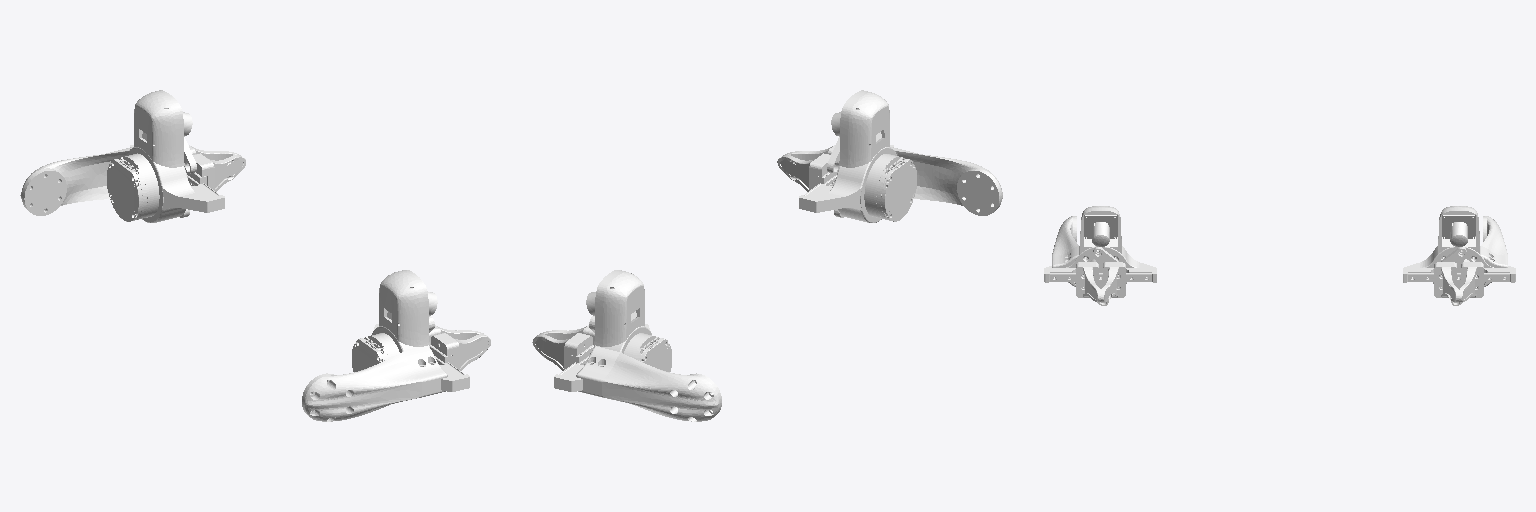
The robot description file, URDF, robot "Taks_T1":
<robot name="Taks_T1">

  <link name="pelvis">
    <inertial>
      <origin xyz="-0.000276 0.004540 -0.078485" rpy="0 0 0"/>
      <mass value="3.34"/>
      <inertia ixx="0.017602" ixy="-6.67118e-05" ixz="8.88231e-05" iyy="0.00671794" iyz="0.000112175" izz="0.0161292"/>
    </inertial>
    <visual>
      <origin xyz="0 0 0" rpy="0 0 0"/>
      <geometry>
        <mesh filename="meshes/pelvis.STL"/>
      </geometry>
      <material name="white">
        <color rgba="1.0 1.0 1.0 1.0"/>
      </material>
    </visual>
    <collision>
      <origin xyz="0 0 0" rpy="0 0 0"/>
      <geometry>
        <mesh filename="meshes/pelvis.STL"/>
      </geometry>
    </collision>
  </link>

  <!-- Left Leg -->

  <!-- Right Leg -->

  <!-- Upper Body -->
  <link name="waist_yaw_link">
    <inertial>
      <origin xyz="0.000703 0.000036 0.023511" rpy="0 0 0"/>
      <mass value="0.79"/>
      <inertia ixx="0.000424115" ixy="-7.88004e-10" ixz="-1.35964e-06" iyy="0.00139043" iyz="-3.146e-10" izz="0.00115195"/>
    </inertial>
    <visual>
      <origin xyz="0 0 0" rpy="0 0 0"/>
      <geometry>
        <mesh filename="meshes/waist_yaw_link.STL"/>
      </geometry>
      <material name="white">
        <color rgba="1.0 1.0 1.0 1.0"/>
      </material>
    </visual>
    <collision>
      <origin xyz="0 0 0" rpy="0 0 0"/>
      <geometry>
        <mesh filename="meshes/waist_yaw_link.STL"/>
      </geometry>
    </collision>
  </link>
  <joint name="waist_yaw_joint" type="revolute">
    <origin xyz="0.0 0.0 0.0" rpy="0 0 0"/>
    <parent link="pelvis"/>
    <child link="waist_yaw_link"/>
    <axis xyz="0.0 0.0 1.0"/>
    <limit lower="-2.618" upper="2.618" effort="97.0" velocity="4.19"/>
  </joint>

  <link name="waist_roll_link">
    <inertial>
      <origin xyz="-0.036458 0.001915 0.039503" rpy="0 0 0"/>
      <mass value="1.56"/>
      <inertia ixx="0.00365763" ixy="5.23222e-06" ixz="0.000103033" iyy="0.00365945" iyz="-0.000116974" izz="0.00122046"/>
    </inertial>
    <visual>
      <origin xyz="0 0 0" rpy="0 0 0"/>
      <geometry>
        <mesh filename="meshes/waist_roll_link.STL"/>
      </geometry>
      <material name="white">
        <color rgba="1.0 1.0 1.0 1.0"/>
      </material>
    </visual>
    <collision>
      <origin xyz="0 0 0" rpy="0 0 0"/>
      <geometry>
        <mesh filename="meshes/waist_roll_link.STL"/>
      </geometry>
    </collision>
  </link>
  <joint name="waist_roll_joint" type="revolute">
    <origin xyz="0.03813 3.7e-05 0.050906" rpy="0 0 0"/>
    <parent link="waist_yaw_link"/>
    <child link="waist_roll_link"/>
    <axis xyz="1.0 0.0 0.0"/>
    <limit lower="-0.52" upper="0.52" effort="97.0" velocity="4.19"/>
  </joint>

  <link name="torso_link">
    <inertial>
      <origin xyz="-0.000218 0.028412 0.216121" rpy="0 0 0"/>
      <mass value="2.01"/>
      <inertia ixx="0.0398056" ixy="2.45331e-06" ixz="3.33211e-05" iyy="0.0316306" iyz="0.000776359" izz="0.0103877"/>
    </inertial>
    <visual>
      <origin xyz="0 0 0" rpy="0 0 0"/>
      <geometry>
        <mesh filename="meshes/waist_pitch_link.STL"/>
      </geometry>
      <material name="white">
        <color rgba="1.0 1.0 1.0 1.0"/>
      </material>
    </visual>
    <collision>
      <origin xyz="0 0 0" rpy="0 0 0"/>
      <geometry>
        <mesh filename="meshes/waist_pitch_link.STL"/>
      </geometry>
    </collision>
  </link>
  <joint name="waist_pitch_joint" type="revolute">
    <origin xyz="-0.03813 -0.032925 0.079963" rpy="0 0 0"/>
    <parent link="waist_roll_link"/>
    <child link="torso_link"/>
    <axis xyz="0.0 1.0 0.0"/>
    <limit lower="-0.52" upper="0.52" effort="97.0" velocity="4.19"/>
  </joint>

  <!-- Arms -->
  <link name="left_shoulder_pitch_link">
    <inertial>
      <origin xyz="-0.003496 0.038568 0.000147" rpy="0 0 0"/>
      <mass value="0.24"/>
      <inertia ixx="0.000250427" ixy="4.18386e-05" ixz="2.58077e-07" iyy="0.000268432" iyz="-1.77057e-06" izz="0.000438494"/>
    </inertial>
    <visual>
      <origin xyz="0 0 0" rpy="0 0 0"/>
      <geometry>
        <mesh filename="meshes/left_shoulder_pitch_link.STL"/>
      </geometry>
      <material name="white">
        <color rgba="1.0 1.0 1.0 1.0"/>
      </material>
    </visual>
    <collision>
      <origin xyz="0 0 0" rpy="0 0 0"/>
      <geometry>
        <mesh filename="meshes/left_shoulder_pitch_link.STL"/>
      </geometry>
    </collision>
  </link>
  <joint name="left_shoulder_pitch_joint" type="revolute">
    <origin xyz="0.0 0.13582 0.33654" rpy="0.5235985985475524 0.0 0.0"/>
    <parent link="torso_link"/>
    <child link="left_shoulder_pitch_link"/>
    <axis xyz="0.0 1.0 0.0"/>
    <limit lower="-3.0892" upper="2.6704" effort="27.0" velocity="5.4454"/>
  </joint>

  <link name="left_shoulder_roll_link">
    <inertial>
      <origin xyz="-0.034326 0.004104 -0.054527" rpy="0 0 0"/>
      <mass value="0.92"/>
      <inertia ixx="0.0017498" ixy="3.29232e-07" ixz="-3.22734e-06" iyy="0.0023048" iyz="-0.000103378" izz="0.00162172"/>
    </inertial>
    <visual>
      <origin xyz="0 0 0" rpy="0 0 0"/>
      <geometry>
        <mesh filename="meshes/left_shoulder_roll_link.STL"/>
      </geometry>
      <material name="white">
        <color rgba="1.0 1.0 1.0 1.0"/>
      </material>
    </visual>
    <collision>
      <origin xyz="0 0 0" rpy="0 0 0"/>
      <geometry>
        <mesh filename="meshes/left_shoulder_roll_link.STL"/>
      </geometry>
    </collision>
  </link>
  <joint name="left_shoulder_roll_joint" type="revolute">
    <origin xyz="0.03476 0.0835 0.000425" rpy="-0.5235985985475524 0.0 0.0"/>
    <parent link="left_shoulder_pitch_link"/>
    <child link="left_shoulder_roll_link"/>
    <axis xyz="1.0 0.0 0.0"/>
    <limit lower="-1.5882" upper="2.2515" effort="27.0" velocity="5.4454"/>
  </joint>

  <link name="left_shoulder_yaw_link">
    <inertial>
      <origin xyz="0.000352 -0.000067 -0.086391" rpy="0 0 0"/>
      <mass value="0.625"/>
      <inertia ixx="0.00206874" ixy="2.28383e-06" ixz="3.18573e-07" iyy="0.00204889" iyz="3.39751e-06" izz="0.000836491"/>
    </inertial>
    <visual>
      <origin xyz="0 0 0" rpy="0 0 0"/>
      <geometry>
        <mesh filename="meshes/left_shoulder_yaw_link.STL"/>
      </geometry>
      <material name="white">
        <color rgba="1.0 1.0 1.0 1.0"/>
      </material>
    </visual>
    <collision>
      <origin xyz="0 0 0" rpy="0 0 0"/>
      <geometry>
        <mesh filename="meshes/left_shoulder_yaw_link.STL"/>
      </geometry>
    </collision>
  </link>
  <joint name="left_shoulder_yaw_joint" type="revolute">
    <origin xyz="-0.034375 0.0 -0.12" rpy="0 0 0"/>
    <parent link="left_shoulder_roll_link"/>
    <child link="left_shoulder_yaw_link"/>
    <axis xyz="0.0 0.0 1.0"/>
    <limit lower="-2.618" upper="2.618" effort="27.0" velocity="5.4454"/>
  </joint>

  <link name="left_elbow_link">
    <inertial>
      <origin xyz="0.060290 -0.018897 -0.005505" rpy="0 0 0"/>
      <mass value="0.552"/>
      <inertia ixx="0.000989202" ixy="3.44852e-05" ixz="-6.49941e-05" iyy="0.00143131" iyz="-1.48861e-05" izz="0.00167487"/>
    </inertial>
    <visual>
      <origin xyz="0 0 0" rpy="0 0 0"/>
      <geometry>
        <mesh filename="meshes/left_elbow_link.STL"/>
      </geometry>
      <material name="white">
        <color rgba="1.0 1.0 1.0 1.0"/>
      </material>
    </visual>
    <collision>
      <origin xyz="0 0 0" rpy="0 0 0"/>
      <geometry>
        <mesh filename="meshes/left_elbow_link.STL"/>
      </geometry>
    </collision>
  </link>
  <joint name="left_elbow_joint" type="revolute">
    <origin xyz="0.000364 0.029113 -0.18099" rpy="0 0 0"/>
    <parent link="left_shoulder_yaw_link"/>
    <child link="left_elbow_link"/>
    <axis xyz="0.0 1.0 0.0"/>
    <limit lower="-0.7" upper="1.57" effort="27.0" velocity="5.4454"/>
  </joint>

  <link name="left_wrist_roll_link">
    <inertial>
      <origin xyz="0.059365 -0.000127 0.000856" rpy="0 0 0"/>
      <mass value="0.508"/>
      <inertia ixx="0.000847141" ixy="-2.35849e-07" ixz="-1.01761e-05" iyy="0.00119508" iyz="-7.39738e-07" izz="0.00108891"/>
    </inertial>
    <visual>
      <origin xyz="0 0 0" rpy="0 0 0"/>
      <geometry>
        <mesh filename="meshes/left_wrist_roll_link.STL"/>
      </geometry>
      <material name="white">
        <color rgba="1.0 1.0 1.0 1.0"/>
      </material>
    </visual>
    <collision>
      <origin xyz="0 0 0" rpy="0 0 0"/>
      <geometry>
        <mesh filename="meshes/left_wrist_roll_link.STL"/>
      </geometry>
    </collision>
  </link>
  <joint name="left_wrist_roll_joint" type="revolute">
    <origin xyz="0.13 -0.029125 0.0" rpy="0 0 0"/>
    <parent link="left_elbow_link"/>
    <child link="left_wrist_roll_link"/>
    <axis xyz="1.0 0.0 0.0"/>
    <limit lower="-2.67" upper="2.67" effort="7.0" velocity="20.944"/>
  </joint>

  <link name="left_wrist_yaw_link">
    <inertial>
      <origin xyz="0.000001 0.001808 0.034229" rpy="0 0 0"/>
      <mass value="0.37"/>
      <inertia ixx="0.000161838" ixy="7.17778e-09" ixz="-6.5797e-08" iyy="0.00018503" iyz="5.48824e-07" izz="0.000151299"/>
    </inertial>
    <visual>
      <origin xyz="0 0 0" rpy="0 0 0"/>
      <geometry>
        <mesh filename="meshes/left_wrist_yaw_link.STL"/>
      </geometry>
      <material name="white">
        <color rgba="1.0 1.0 1.0 1.0"/>
      </material>
    </visual>
    <collision>
      <origin xyz="0 0 0" rpy="0 0 0"/>
      <geometry>
        <mesh filename="meshes/left_wrist_yaw_link.STL"/>
      </geometry>
    </collision>
  </link>
  <joint name="left_wrist_yaw_joint" type="revolute">
    <origin xyz="0.121 0.0 -0.0333" rpy="0 0 0"/>
    <parent link="left_wrist_roll_link"/>
    <child link="left_wrist_yaw_link"/>
    <axis xyz="0.0 0.0 1.0"/>
    <limit lower="-0.9" upper="0.9" effort="7.0" velocity="20.944"/>
  </joint>

  <link name="left_wrist_pitch_link">
    <inertial>
      <origin xyz="0.072931 -0.016145 0.006694" rpy="0 0 0"/>
      <mass value="0.308"/>
      <inertia ixx="0.000246269" ixy="7.5801e-05" ixz="-1.39804e-05" iyy="0.000348519" iyz="1.44425e-05" izz="0.00035919"/>
    </inertial>
    <visual>
      <origin xyz="0 0 0" rpy="0 0 0"/>
      <geometry>
        <mesh filename="meshes/left_wrist_pitch_link.STL"/>
      </geometry>
      <material name="white">
        <color rgba="1.0 1.0 1.0 1.0"/>
      </material>
    </visual>
    <collision>
      <origin xyz="0 0 0" rpy="0 0 0"/>
      <geometry>
        <mesh filename="meshes/left_wrist_pitch_link.STL"/>
      </geometry>
    </collision>
  </link>
  <joint name="left_wrist_pitch_joint" type="revolute">
    <origin xyz="0.0 0.022502 0.033299" rpy="0 0 0"/>
    <parent link="left_wrist_yaw_link"/>
    <child link="left_wrist_pitch_link"/>
    <axis xyz="0.0 1.0 0.0"/>
    <limit lower="-0.9" upper="0.9" effort="7.0" velocity="20.944"/>
  </joint>

  <link name="right_shoulder_pitch_link">
    <inertial>
      <origin xyz="-0.003496 -0.038568 0.000147" rpy="0 0 0"/>
      <mass value="0.24"/>
      <inertia ixx="0.000250427" ixy="-4.18386e-05" ixz="2.59332e-07" iyy="0.000268432" iyz="1.77275e-06" izz="0.000438494"/>
    </inertial>
    <visual>
      <origin xyz="0 0 0" rpy="0 0 0"/>
      <geometry>
        <mesh filename="meshes/right_shoulder_pitch_link.STL"/>
      </geometry>
      <material name="white">
        <color rgba="1.0 1.0 1.0 1.0"/>
      </material>
    </visual>
    <collision>
      <origin xyz="0 0 0" rpy="0 0 0"/>
      <geometry>
        <mesh filename="meshes/right_shoulder_pitch_link.STL"/>
      </geometry>
    </collision>
  </link>
  <joint name="right_shoulder_pitch_joint" type="revolute">
    <origin xyz="0.0 -0.069974 0.33654" rpy="-0.5235985985475524 0.0 0.0"/>
    <parent link="torso_link"/>
    <child link="right_shoulder_pitch_link"/>
    <axis xyz="0.0 1.0 0.0"/>
    <limit lower="-3.0892" upper="2.6704" effort="27.0" velocity="5.4454"/>
  </joint>

  <link name="right_shoulder_roll_link">
    <inertial>
      <origin xyz="-0.027387 -0.004099 -0.054543" rpy="0 0 0"/>
      <mass value="0.92"/>
      <inertia ixx="0.00174968" ixy="2.23905e-07" ixz="-1.81555e-06" iyy="0.002305" iyz="0.000103081" izz="0.00162188"/>
    </inertial>
    <visual>
      <origin xyz="0 0 0" rpy="0 0 0"/>
      <geometry>
        <mesh filename="meshes/right_shoulder_roll_link.STL"/>
      </geometry>
      <material name="white">
        <color rgba="1.0 1.0 1.0 1.0"/>
      </material>
    </visual>
    <collision>
      <origin xyz="0 0 0" rpy="0 0 0"/>
      <geometry>
        <mesh filename="meshes/right_shoulder_roll_link.STL"/>
      </geometry>
    </collision>
  </link>
  <joint name="right_shoulder_roll_joint" type="revolute">
    <origin xyz="0.02776 -0.0835 0.000425" rpy="0.5235985985475524 0.0 0.0"/>
    <parent link="right_shoulder_pitch_link"/>
    <child link="right_shoulder_roll_link"/>
    <axis xyz="1.0 0.0 0.0"/>
    <limit lower="-2.2515" upper="1.5882" effort="27.0" velocity="5.4454"/>
  </joint>

  <link name="right_shoulder_yaw_link">
    <inertial>
      <origin xyz="0.000351 0.000061 -0.086330" rpy="0 0 0"/>
      <mass value="0.625"/>
      <inertia ixx="0.00206938" ixy="2.13039e-06" ixz="4.95083e-09" iyy="0.00204967" iyz="-2.87596e-06" izz="0.000836599"/>
    </inertial>
    <visual>
      <origin xyz="0 0 0" rpy="0 0 0"/>
      <geometry>
        <mesh filename="meshes/right_shoulder_yaw_link.STL"/>
      </geometry>
      <material name="white">
        <color rgba="1.0 1.0 1.0 1.0"/>
      </material>
    </visual>
    <collision>
      <origin xyz="0 0 0" rpy="0 0 0"/>
      <geometry>
        <mesh filename="meshes/right_shoulder_yaw_link.STL"/>
      </geometry>
    </collision>
  </link>
  <joint name="right_shoulder_yaw_joint" type="revolute">
    <origin xyz="-0.027375 0.0 -0.12" rpy="0 0 0"/>
    <parent link="right_shoulder_roll_link"/>
    <child link="right_shoulder_yaw_link"/>
    <axis xyz="0.0 0.0 1.0"/>
    <limit lower="-2.618" upper="2.618" effort="27.0" velocity="5.4454"/>
  </joint>

  <link name="right_elbow_link">
    <inertial>
      <origin xyz="0.060609 -0.027320 -0.005391" rpy="0 0 0"/>
      <mass value="0.552"/>
      <inertia ixx="0.00104558" ixy="-3.57132e-06" ixz="-6.39919e-05" iyy="0.00142279" iyz="-1.2025e-06" izz="0.00172675"/>
    </inertial>
    <visual>
      <origin xyz="0 0 0" rpy="0 0 0"/>
      <geometry>
        <mesh filename="meshes/right_elbow_link.STL"/>
      </geometry>
      <material name="white">
        <color rgba="1.0 1.0 1.0 1.0"/>
      </material>
    </visual>
    <collision>
      <origin xyz="0 0 0" rpy="0 0 0"/>
      <geometry>
        <mesh filename="meshes/right_elbow_link.STL"/>
      </geometry>
    </collision>
  </link>
  <joint name="right_elbow_joint" type="revolute">
    <origin xyz="0.000364 0.027375 -0.18099" rpy="0 0 0"/>
    <parent link="right_shoulder_yaw_link"/>
    <child link="right_elbow_link"/>
    <axis xyz="0.0 1.0 0.0"/>
    <limit lower="-0.7" upper="1.57" effort="27.0" velocity="5.4454"/>
  </joint>

  <link name="right_wrist_roll_link">
    <inertial>
      <origin xyz="0.059348 -0.000124 0.000828" rpy="0 0 0"/>
      <mass value="0.508"/>
      <inertia ixx="0.000847235" ixy="-4.3175e-07" ixz="-1.06067e-05" iyy="0.00119552" iyz="-7.24785e-07" izz="0.00108942"/>
    </inertial>
    <visual>
      <origin xyz="0 0 0" rpy="0 0 0"/>
      <geometry>
        <mesh filename="meshes/right_wrist_roll_link.STL"/>
      </geometry>
      <material name="white">
        <color rgba="1.0 1.0 1.0 1.0"/>
      </material>
    </visual>
    <collision>
      <origin xyz="0 0 0" rpy="0 0 0"/>
      <geometry>
        <mesh filename="meshes/right_wrist_roll_link.STL"/>
      </geometry>
    </collision>
  </link>
  <joint name="right_wrist_roll_joint" type="revolute">
    <origin xyz="0.13 -0.027375 0.0" rpy="0 0 0"/>
    <parent link="right_elbow_link"/>
    <child link="right_wrist_roll_link"/>
    <axis xyz="1.0 0.0 0.0"/>
    <limit lower="-2.67" upper="2.67" effort="7.0" velocity="20.944"/>
  </joint>

  <link name="right_wrist_yaw_link">
    <inertial>
      <origin xyz="-0.000001 -0.001805 0.034231" rpy="0 0 0"/>
      <mass value="0.37"/>
      <inertia ixx="0.00016184" ixy="-9.17334e-09" ixz="-5.61025e-08" iyy="0.000185016" iyz="-5.51309e-07" izz="0.000151287"/>
    </inertial>
    <visual>
      <origin xyz="0 0 0" rpy="0 0 0"/>
      <geometry>
        <mesh filename="meshes/right_wrist_yaw_link.STL"/>
      </geometry>
      <material name="white">
        <color rgba="1.0 1.0 1.0 1.0"/>
      </material>
    </visual>
    <collision>
      <origin xyz="0 0 0" rpy="0 0 0"/>
      <geometry>
        <mesh filename="meshes/right_wrist_yaw_link.STL"/>
      </geometry>
    </collision>
  </link>
  <joint name="right_wrist_yaw_joint" type="revolute">
    <origin xyz="0.121 0.0 -0.0333" rpy="0 0 0"/>
    <parent link="right_wrist_roll_link"/>
    <child link="right_wrist_yaw_link"/>
    <axis xyz="0.0 0.0 1.0"/>
    <limit lower="-0.9" upper="0.9" effort="7.0" velocity="20.944"/>
  </joint>

  <link name="right_wrist_pitch_link">
    <inertial>
      <origin xyz="0.072931 0.016145 0.006694" rpy="0 0 0"/>
      <mass value="0.308"/>
      <inertia ixx="0.000246269" ixy="-7.58014e-05" ixz="-1.39808e-05" iyy="0.00034852" iyz="-1.44428e-05" izz="0.000359191"/>
    </inertial>
    <visual>
      <origin xyz="0 0 0" rpy="0 0 0"/>
      <geometry>
        <mesh filename="meshes/right_wrist_pitch_link.STL"/>
      </geometry>
      <material name="white">
        <color rgba="1.0 1.0 1.0 1.0"/>
      </material>
    </visual>
    <collision>
      <origin xyz="0 0 0" rpy="0 0 0"/>
      <geometry>
        <mesh filename="meshes/right_wrist_pitch_link.STL"/>
      </geometry>
    </collision>
  </link>
  <joint name="right_wrist_pitch_joint" type="revolute">
    <origin xyz="0.0 -0.0225 0.0333" rpy="0 0 0"/>
    <parent link="right_wrist_yaw_link"/>
    <child link="right_wrist_pitch_link"/>
    <axis xyz="0.0 1.0 0.0"/>
    <limit lower="-0.9" upper="0.9" effort="7.0" velocity="20.944"/>
  </joint>

  <!-- Neck -->
  <link name="neck_yaw_link">
    <inertial>
      <origin xyz="-0.026017 0.000004 0.044450" rpy="0 0 0"/>
      <mass value="0.4"/>
      <inertia ixx="0.000364466" ixy="1.379e-08" ixz="0.000192002" iyy="0.000510001" iyz="-8.97171e-09" izz="0.000337061"/>
    </inertial>
    <visual>
      <origin xyz="0 0 0" rpy="0 0 0"/>
      <geometry>
        <mesh filename="meshes/neck_yaw_link.STL"/>
      </geometry>
      <material name="white">
        <color rgba="1.0 1.0 1.0 1.0"/>
      </material>
    </visual>
    <collision>
      <origin xyz="0 0 0" rpy="0 0 0"/>
      <geometry>
        <mesh filename="meshes/neck_yaw_link.STL"/>
      </geometry>
    </collision>
  </link>
  <joint name="neck_yaw_joint" type="revolute">
    <origin xyz="0.0 0.032906 0.37165" rpy="6.399999997815467e-05 0.0 0.0"/>
    <parent link="torso_link"/>
    <child link="neck_yaw_link"/>
    <axis xyz="0.0 0.0 1.0"/>
    <limit lower="-1.57" upper="1.57" effort="3.0" velocity="15.71"/>
  </joint>

  <link name="neck_roll_link">
    <inertial>
      <origin xyz="0.057357 -0.000598 -0.000025" rpy="0 0 0"/>
      <mass value="0.026"/>
      <inertia ixx="1.34856e-05" ixy="-6.26247e-07" ixz="-3.80287e-09" iyy="6.53992e-06" iyz="2.51081e-09" izz="1.62635e-05"/>
    </inertial>
    <visual>
      <origin xyz="0 0 0" rpy="0 0 0"/>
      <geometry>
        <mesh filename="meshes/neck_roll_link.STL"/>
      </geometry>
      <material name="white">
        <color rgba="1.0 1.0 1.0 1.0"/>
      </material>
    </visual>
    <collision>
      <origin xyz="0 0 0" rpy="0 0 0"/>
      <geometry>
        <mesh filename="meshes/neck_roll_link.STL"/>
      </geometry>
    </collision>
  </link>
  <joint name="neck_roll_joint" type="revolute">
    <origin xyz="-0.0719 0.0 0.0708" rpy="0 0 0"/>
    <parent link="neck_yaw_link"/>
    <child link="neck_roll_link"/>
    <axis xyz="1.0 0.0 0.0"/>
    <limit lower="-0.873" upper="0.873" effort="3.0" velocity="15.71"/>
  </joint>

  <link name="neck_pitch_link">
    <inertial>
      <origin xyz="0.009305 -0.020598 0.085322" rpy="0 0 0"/>
      <mass value="0.6"/>
      <inertia ixx="0.00334466" ixy="1.35608e-06" ixz="0.00025961" iyy="0.00427182" iyz="1.60119e-05" izz="0.00230445"/>
    </inertial>
    <visual>
      <origin xyz="0 0 0" rpy="0 0 0"/>
      <geometry>
        <mesh filename="meshes/neck_pitch_link.STL"/>
      </geometry>
      <material name="white">
        <color rgba="1.0 1.0 1.0 1.0"/>
      </material>
    </visual>
    <collision>
      <origin xyz="0 0 0" rpy="0 0 0"/>
      <geometry>
        <mesh filename="meshes/neck_pitch_link.STL"/>
      </geometry>
    </collision>
  </link>
  <joint name="neck_pitch_joint" type="revolute">
    <origin xyz="0.0719 0.02095 0.0" rpy="0 0 0"/>
    <parent link="neck_roll_link"/>
    <child link="neck_pitch_link"/>
    <axis xyz="0.0 1.0 0.0"/>
    <limit lower="-0.873" upper="0.873" effort="3.0" velocity="15.71"/>
  </joint>

</robot>

--- What the picture shows (computed from the rendered views, not written in the file) ---
Views: 3 orthographic renders of the robot side by side, from view 1: azimuth 30°, elevation 25°; view 2: azimuth 150°, elevation 25°; view 3: azimuth 270°, elevation 25°.
Model Taks_T1 with 21 links and 20 joints (20 revolute), rooted at pelvis, posed every joint at zero.
Links seen in each view (by area): view 1: left_wrist_pitch_link, right_wrist_pitch_link; view 2: right_wrist_pitch_link, left_wrist_pitch_link; view 3: right_wrist_pitch_link, left_wrist_pitch_link.
Link boxes in pixels (<box>): left_wrist_pitch_link: <box>20,90,245,222</box>; right_wrist_pitch_link: <box>302,270,490,421</box>; right_wrist_pitch_link: <box>777,90,1002,222</box>; left_wrist_pitch_link: <box>532,270,721,421</box>; right_wrist_pitch_link: <box>1044,206,1156,305</box>; left_wrist_pitch_link: <box>1403,206,1515,305</box>.
Bounding box of the posed robot: 0.1677 × 0.459 × 0.0975 m (x, y, z).
Meshes: 21 distinct files referenced, 2 mesh visuals loaded (2 binary STL); not drawn: 19 (reference not matched to a file when rendering).